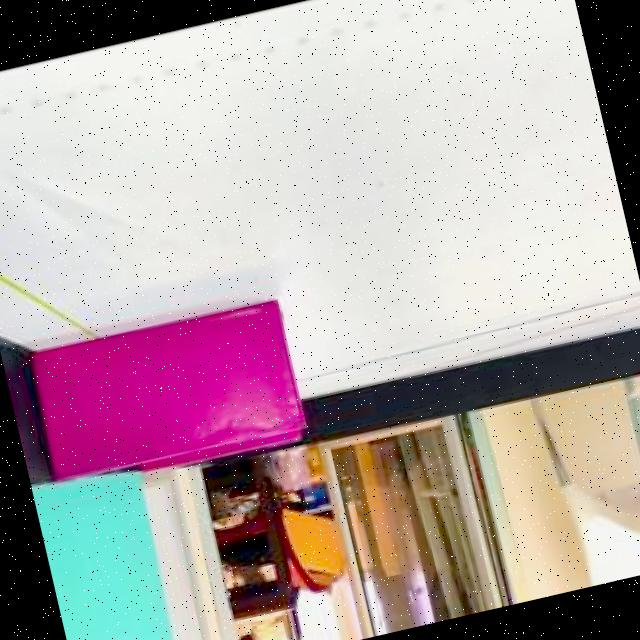xparking: (41, 297, 299, 477)
